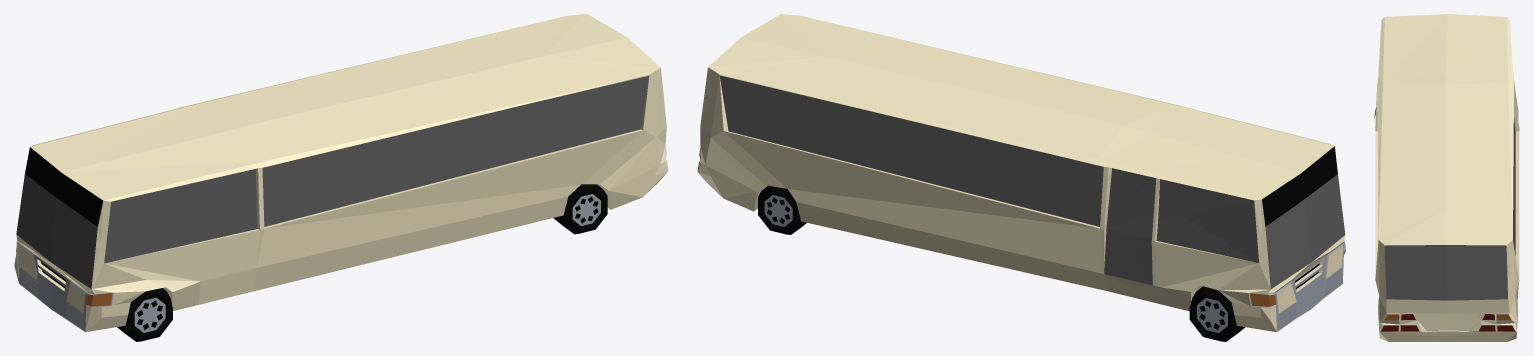
Rendered from Car_6.fbx.
3 renders of one model, left to right at view 1: azimuth 30°, elevation 25°; view 2: azimuth 150°, elevation 25°; view 3: azimuth 270°, elevation 25°, orthographic. The views are drawn at different scales.
Visible parts, largest first — view 1: car body.006, front wheels.017, front wheels.016; view 2: car body.006, front wheels.017, front wheels.016; view 3: car body.006.
Part boxes in pixels (x1,y1,x2,y2): car body.006: (14, 14, 668, 331); front wheels.017: (117, 288, 172, 341); front wheels.016: (553, 184, 607, 234); car body.006: (697, 14, 1345, 332); front wheels.017: (1189, 286, 1245, 341); front wheels.016: (758, 185, 806, 234); car body.006: (1374, 14, 1519, 341).
Size of the model in its own units: 21788 by 5529 by 5670.
